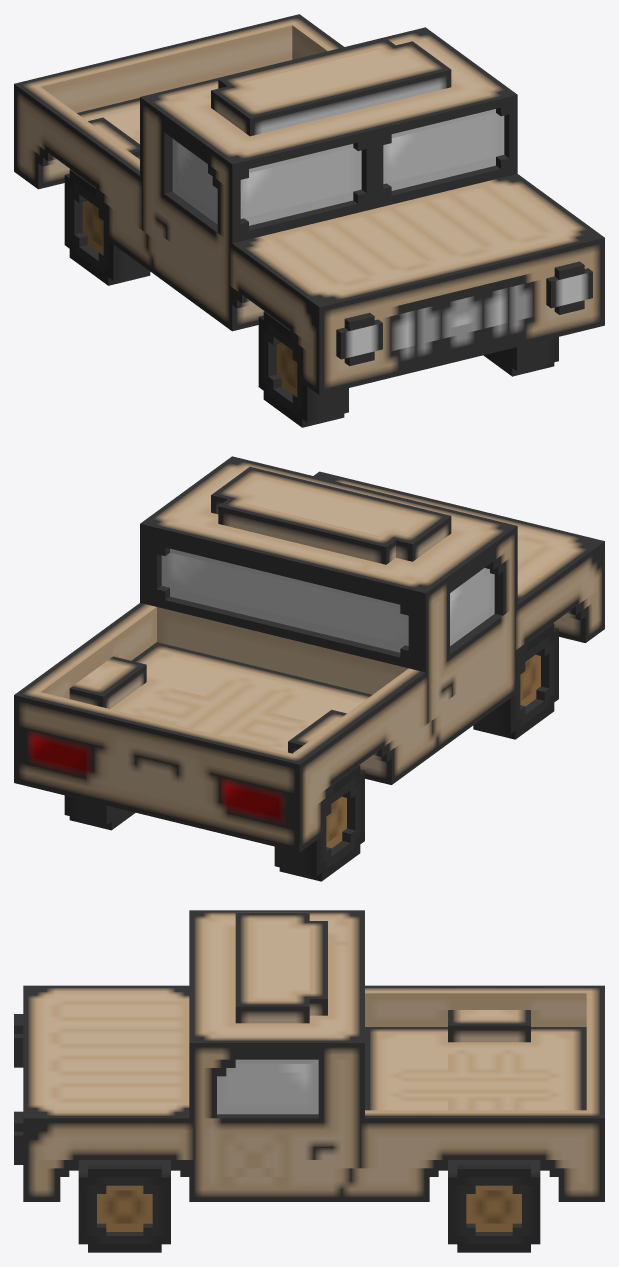
Rendered from Car_2.fbx.
3 renders of one model, top to bottom at view 1: azimuth 30°, elevation 25°; view 2: azimuth 150°, elevation 25°; view 3: azimuth 270°, elevation 25°, orthographic. The views are drawn at different scales.
Parts seen in each view (by area): view 1: Matrix_4; view 2: Matrix_4; view 3: Matrix_4.
Boxes of the visible parts, x1,y1,x2,y2 form: Matrix_4: (14, 14, 604, 427); Matrix_4: (14, 456, 604, 881); Matrix_4: (14, 910, 604, 1252).
Size of the model in its own units: 34 by 28 by 64.
